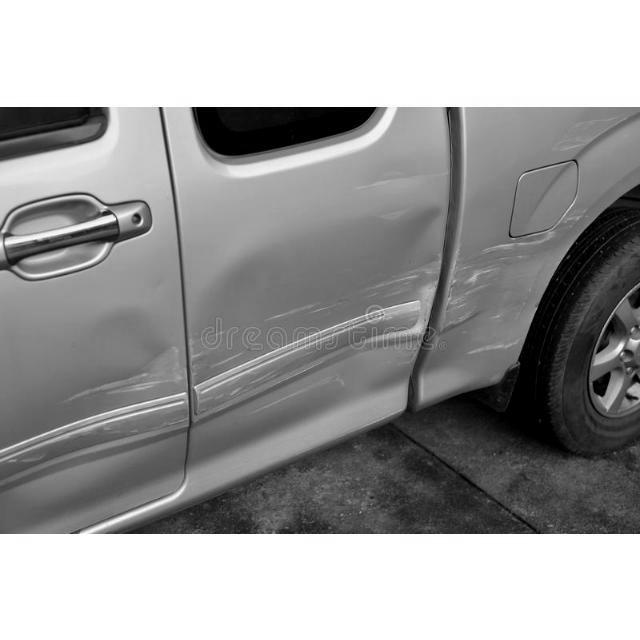doorouter-dent: (190, 106, 452, 476), (2, 107, 189, 518)
quaterpanel-dent: (443, 106, 635, 382)
